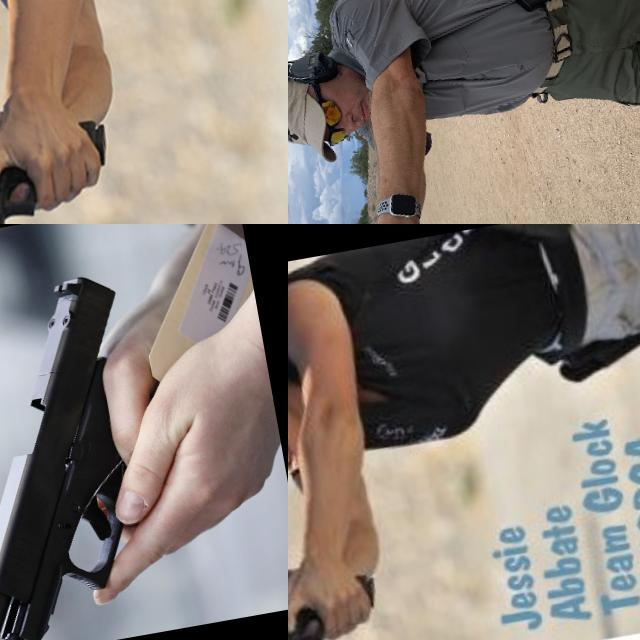handgun: (0, 257, 223, 640), (0, 88, 132, 224), (288, 551, 393, 640)
